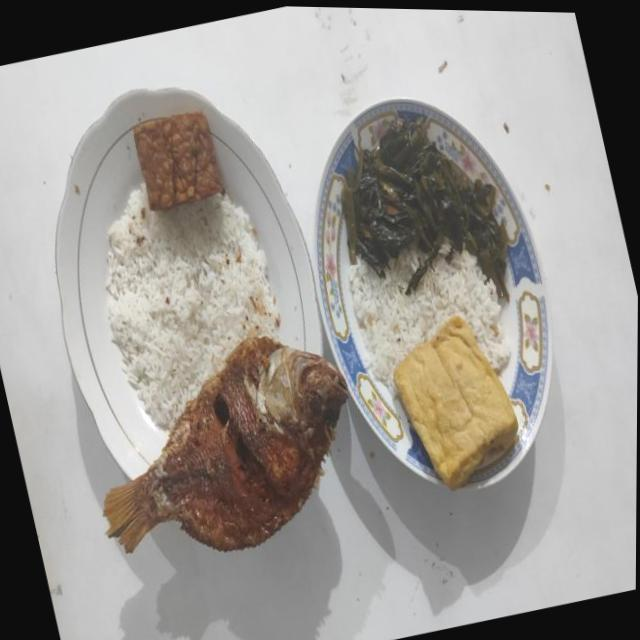ikan_mujair: (103, 336, 348, 552)
nasi_putih: (106, 183, 280, 430), (349, 240, 508, 386)
tahu_goreng: (393, 316, 518, 488)
tempe_goreng: (134, 111, 223, 209)
tumis_kangkung: (342, 110, 508, 300)
